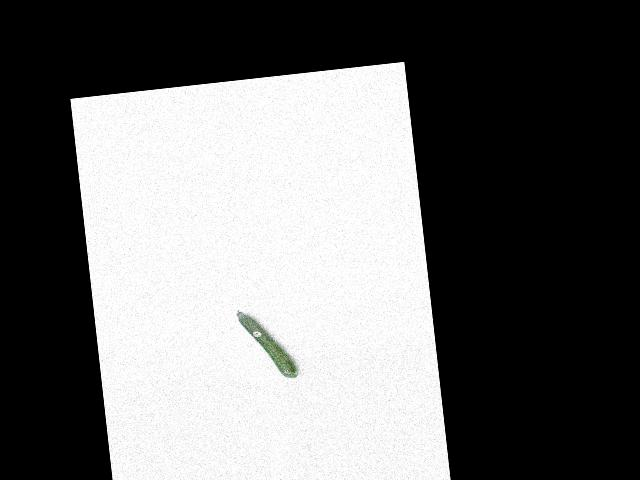cucumber: (236, 304, 298, 382)
